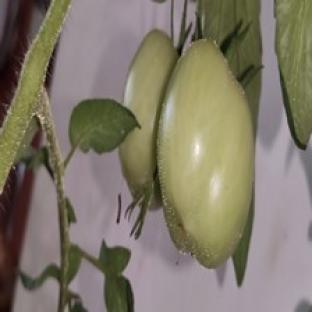Tomato: (158, 39, 254, 267), (119, 30, 178, 201)
